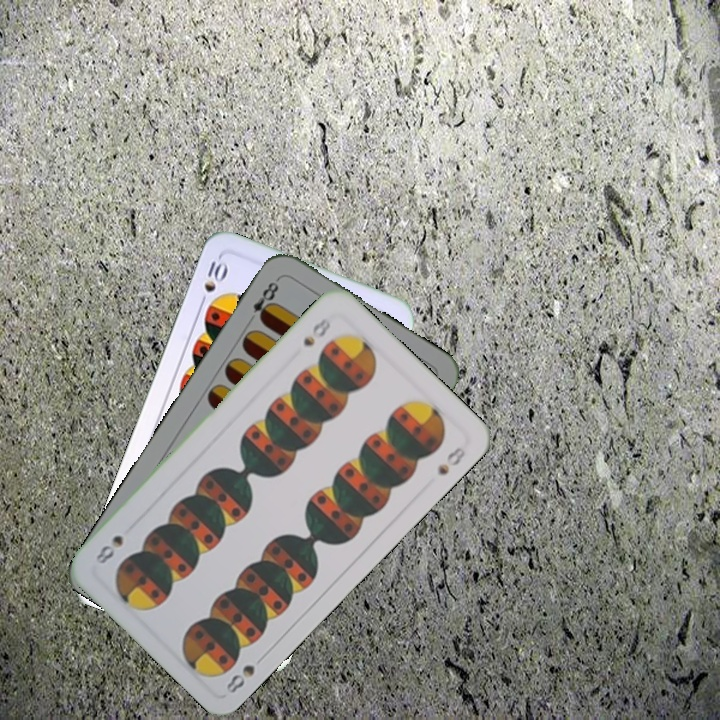E8: (243, 274, 282, 325)
S10: (195, 253, 231, 310)
S8: (221, 649, 269, 696), (299, 313, 334, 349)
